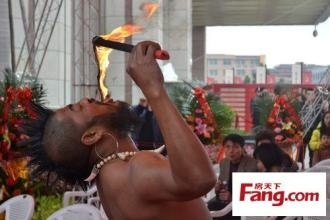fire: (97, 1, 160, 42), (96, 42, 112, 97)
